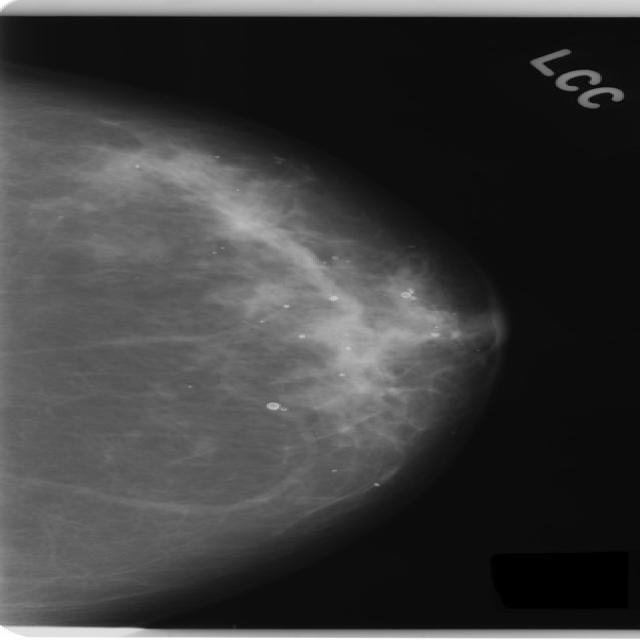tumour: (209, 198, 279, 236)
